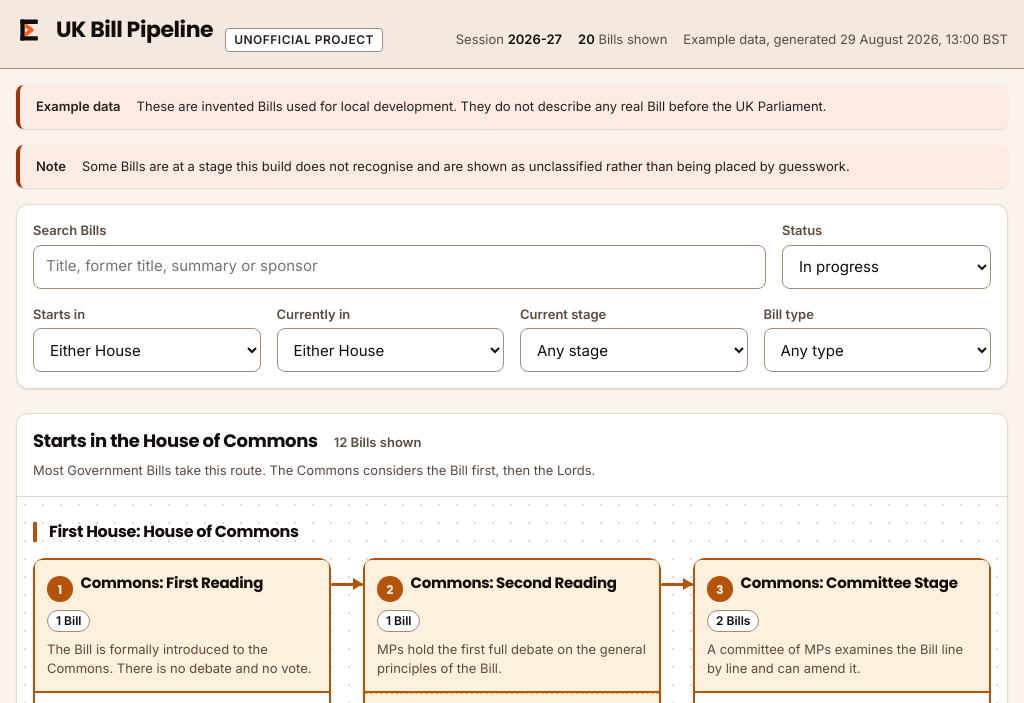
it: counts › updates counts when a filter narrows the results
The image size is (1024, 703).
Check: the heading "Starts in the House of Commons" is shown, box [33,430,318,452]
Select "Acts" in the dropdown labelled "Status" at (886, 266), box [782,244,991,288]
(page scrolled)
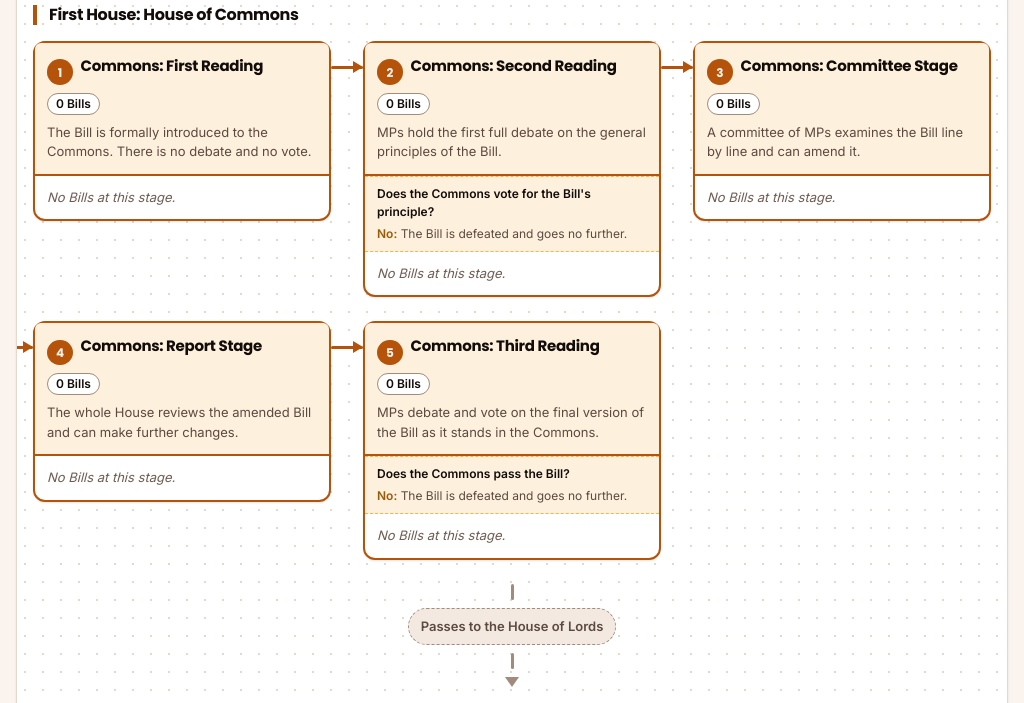
Check: the 4th text "0 Bills" is shown, box [47,373,100,395]
